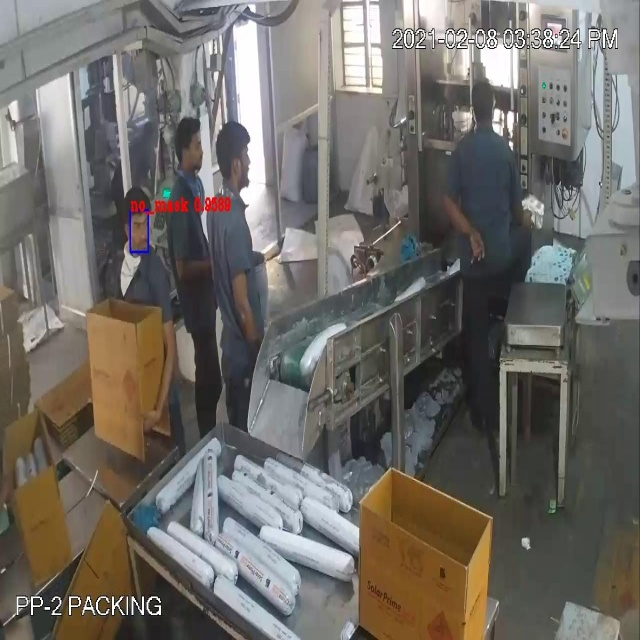Sin_guantes: (441, 187, 497, 290), (140, 292, 178, 430), (220, 238, 265, 354)
